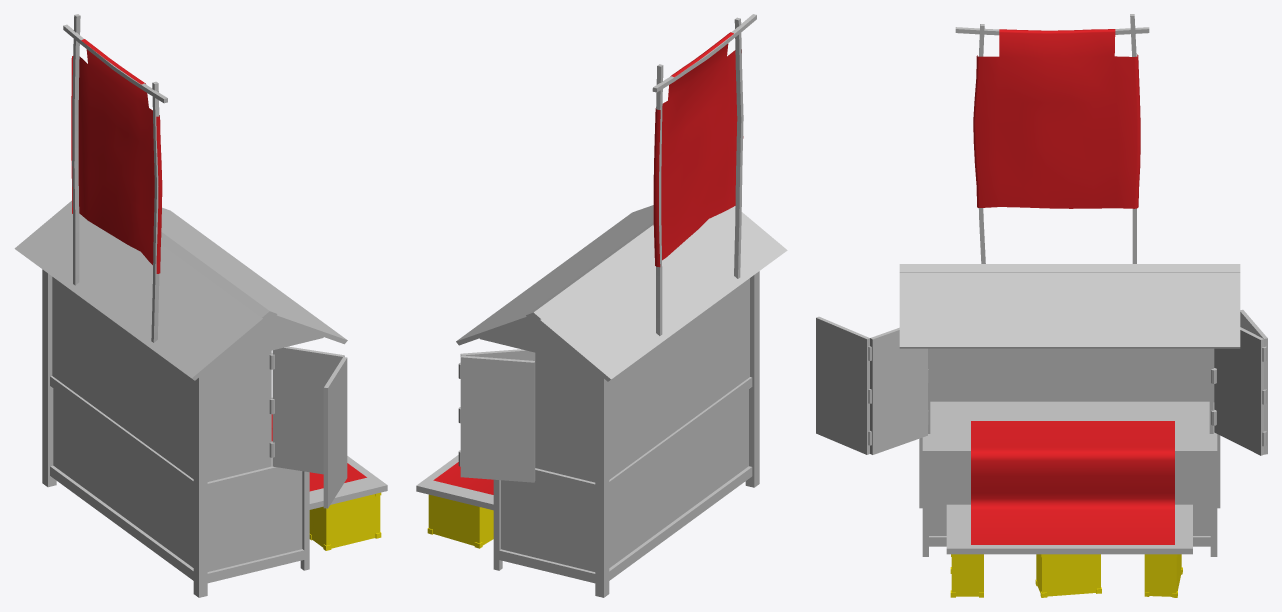
Rendered from Stall.fbx.
3 renders of one model, left to right at view 1: azimuth 30°, elevation 25°; view 2: azimuth 150°, elevation 25°; view 3: azimuth 270°, elevation 25°, orthographic. The views are drawn at different scales.
Visible parts, largest first — view 1: Stall, Stall_Banner, Stall_Door_Left_01, Stall_Door_Left_02, Crate.001, Cloth; view 2: Stall, Stall_Banner, Stall_Door_Right_02, Crate.004, Cloth, Stall_Door_Right_01; view 3: Stall, Stall_Banner, Cloth, Stall_Door_Left_02, Stall_Door_Left_01, Stall_Door_Right_01, Crate.005, Crate.004, Crate.001, Stall_Door_Right_02.
Part boxes in pixels (x1,y1,x2,y2): Stall: [14, 200, 387, 597]; Stall_Banner: [63, 14, 167, 342]; Stall_Door_Left_01: [272, 346, 344, 474]; Stall_Door_Left_02: [323, 357, 347, 508]; Crate.001: [309, 492, 381, 550]; Cloth: [271, 414, 366, 491]; Stall: [416, 205, 787, 597]; Stall_Banner: [652, 14, 756, 335]; Stall_Door_Right_02: [460, 355, 535, 482]; Crate.004: [427, 494, 493, 548]; Cloth: [433, 462, 493, 494]; Stall_Door_Right_01: [460, 349, 535, 360]; Stall: [899, 264, 1240, 556]; Stall_Banner: [955, 14, 1149, 263]; Cloth: [971, 421, 1174, 544]; Stall_Door_Left_02: [816, 316, 869, 454]; Stall_Door_Left_01: [870, 327, 927, 454]; Stall_Door_Right_01: [1214, 327, 1263, 455]; Crate.005: [1035, 554, 1101, 597]; Crate.004: [1144, 554, 1182, 597]; Crate.001: [950, 554, 983, 597]; Stall_Door_Right_02: [1240, 309, 1267, 454].
Size of the model in its own units: 223 by 488 by 413.
